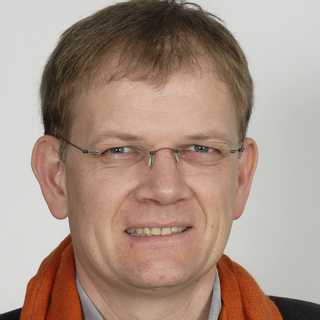eye: (96, 141, 147, 163), (176, 140, 227, 160)
